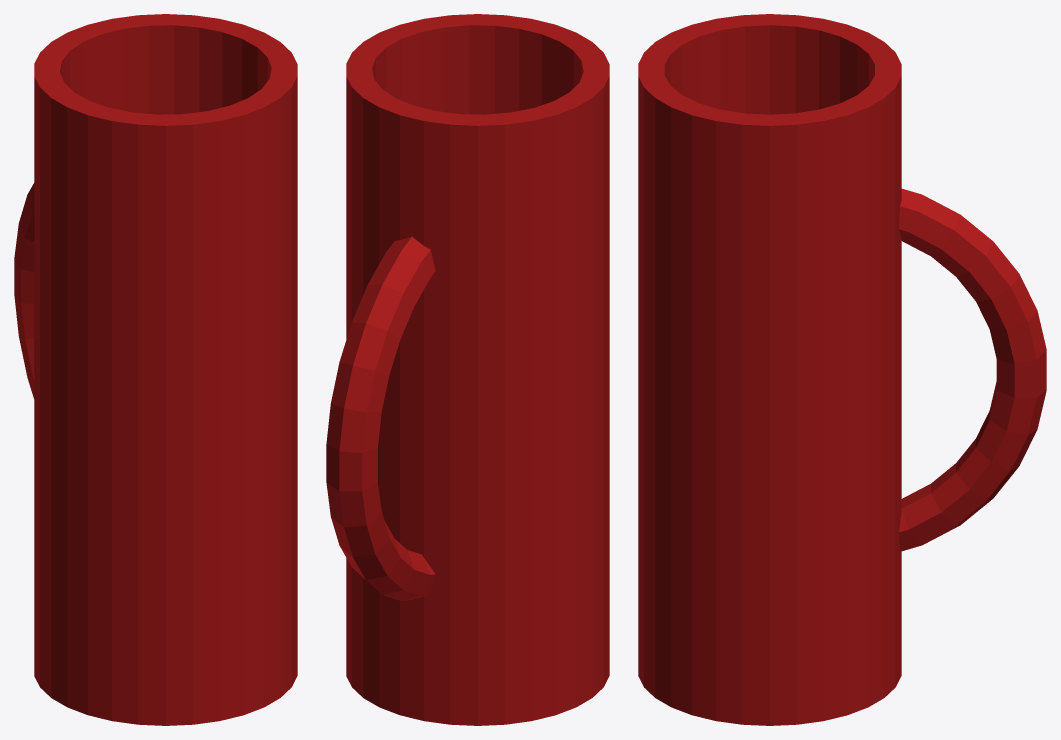
File: fergus-mug.glb
The picture shows the model from 3 angles, left to right: view 1: azimuth 30°, elevation 25°; view 2: azimuth 150°, elevation 25°; view 3: azimuth 270°, elevation 25°; orthographic projection.
Visible parts, largest first — view 1: 8bfb5f24-c832-438a-8971-b22a026b8221; view 2: 8bfb5f24-c832-438a-8971-b22a026b8221; view 3: 8bfb5f24-c832-438a-8971-b22a026b8221.
Boxes of the visible parts, box(x1,y1,x2,y2) form: 8bfb5f24-c832-438a-8971-b22a026b8221: box(14, 14, 297, 725); 8bfb5f24-c832-438a-8971-b22a026b8221: box(326, 14, 609, 725); 8bfb5f24-c832-438a-8971-b22a026b8221: box(638, 14, 1046, 725).
Size of the model in its own units: 20 by 50 by 30.86.
